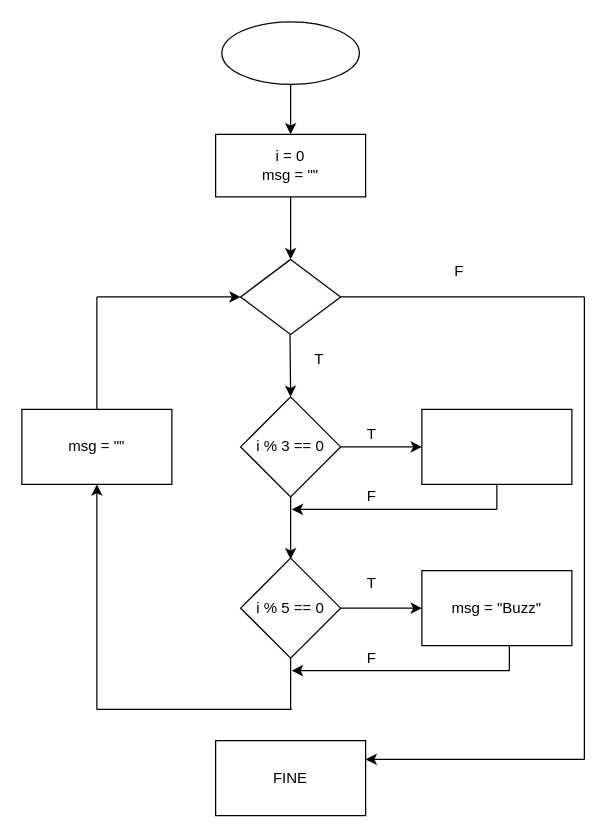
The diagram is 616 pixels wide and 838 high, and some of its shapes have lost their labels. The centre of each missing label's shape, as x and y in pixels:
i <= 100: (x=290, y=296)
Inizio: (x=290, y=52)
msg = "Fizz": (x=496, y=446)
